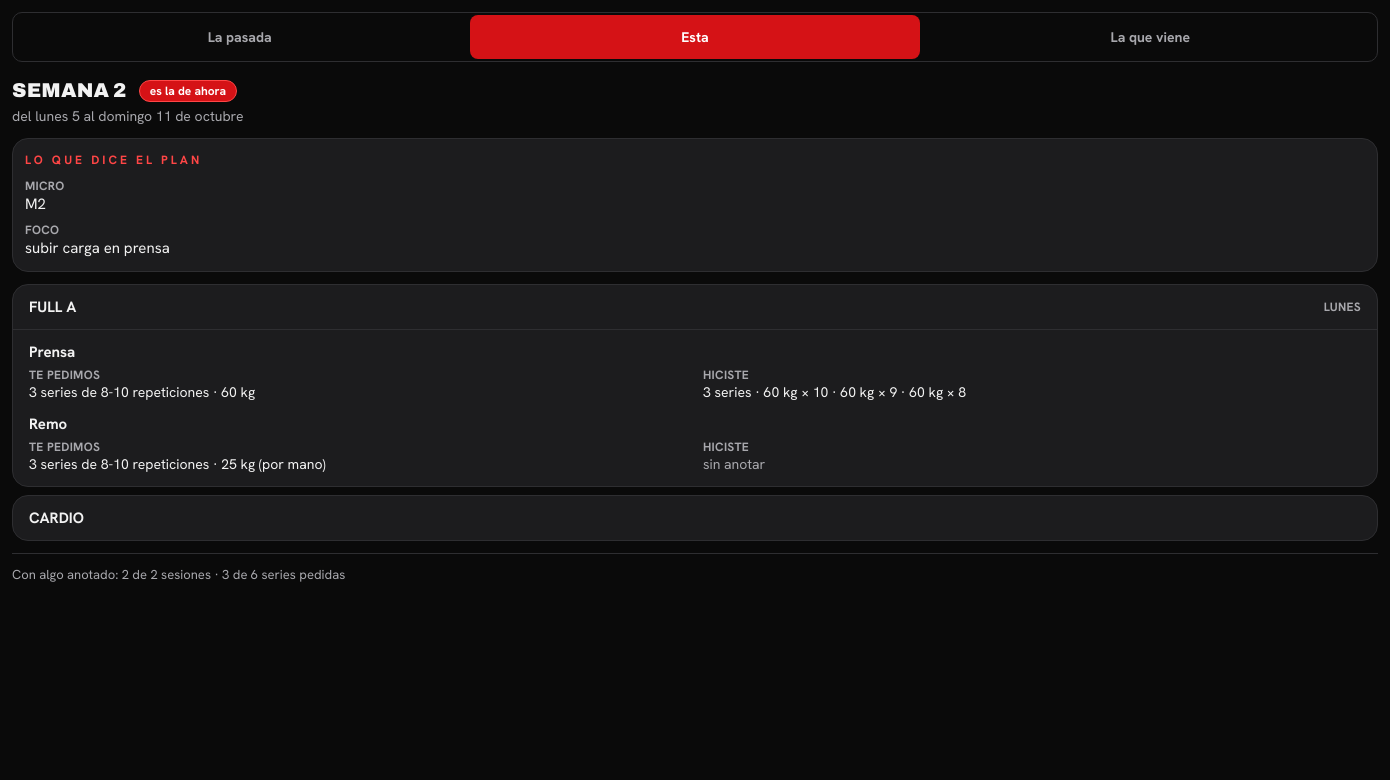
SeccionTresSemanas › una semana que viene propuesta lo dice en la etiqueta
This screenshot has width=1390, height=780.
Click the button "La que viene": (1150, 37) [926,15,1375,59]
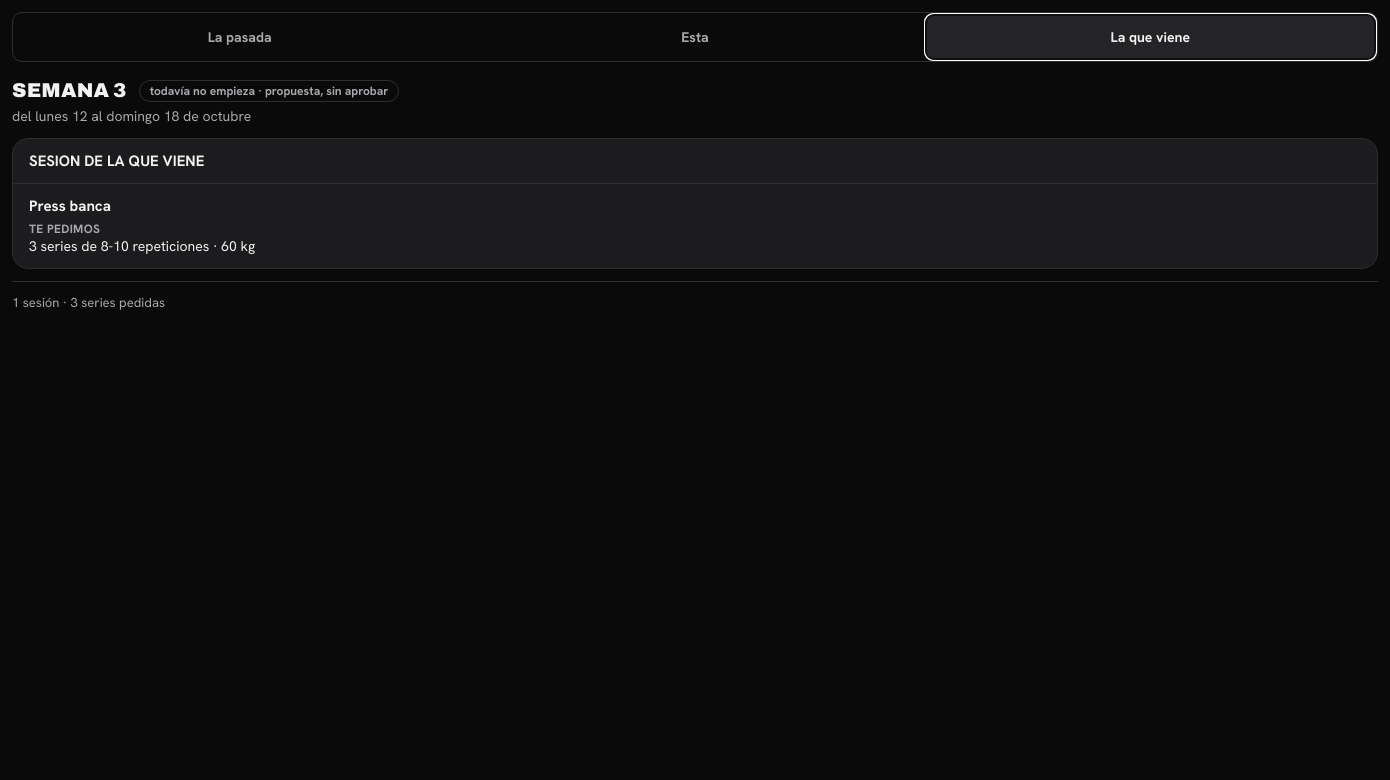
expect the text "todavía no empieza · propuesta, sin aprobar" is shown: met, box [139,80,399,102]
